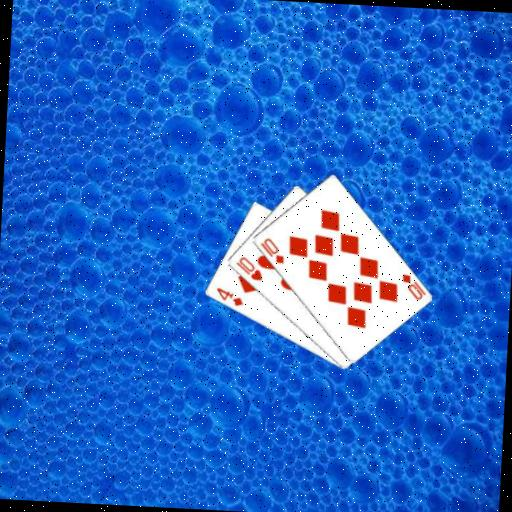10D: (397, 271, 428, 302), (257, 235, 287, 265)
10H: (232, 254, 265, 283)
4D: (213, 284, 246, 308)
